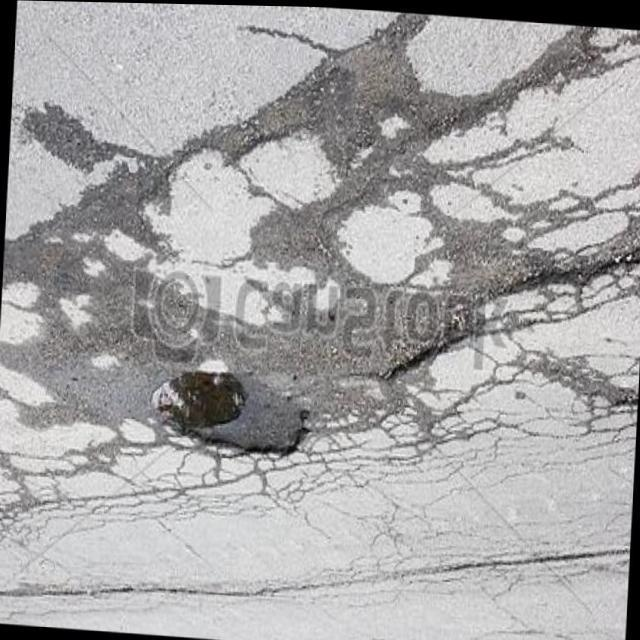pothole: (147, 354, 321, 481)
